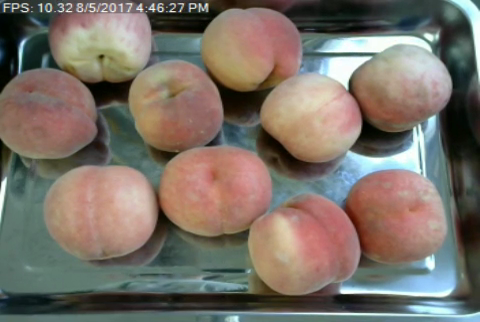Peach: (249, 195, 362, 295), (42, 164, 158, 260), (160, 146, 271, 236), (127, 56, 225, 151), (258, 73, 360, 164), (347, 169, 445, 263), (0, 67, 99, 159), (349, 42, 451, 131), (47, 0, 153, 82), (201, 7, 302, 91)
